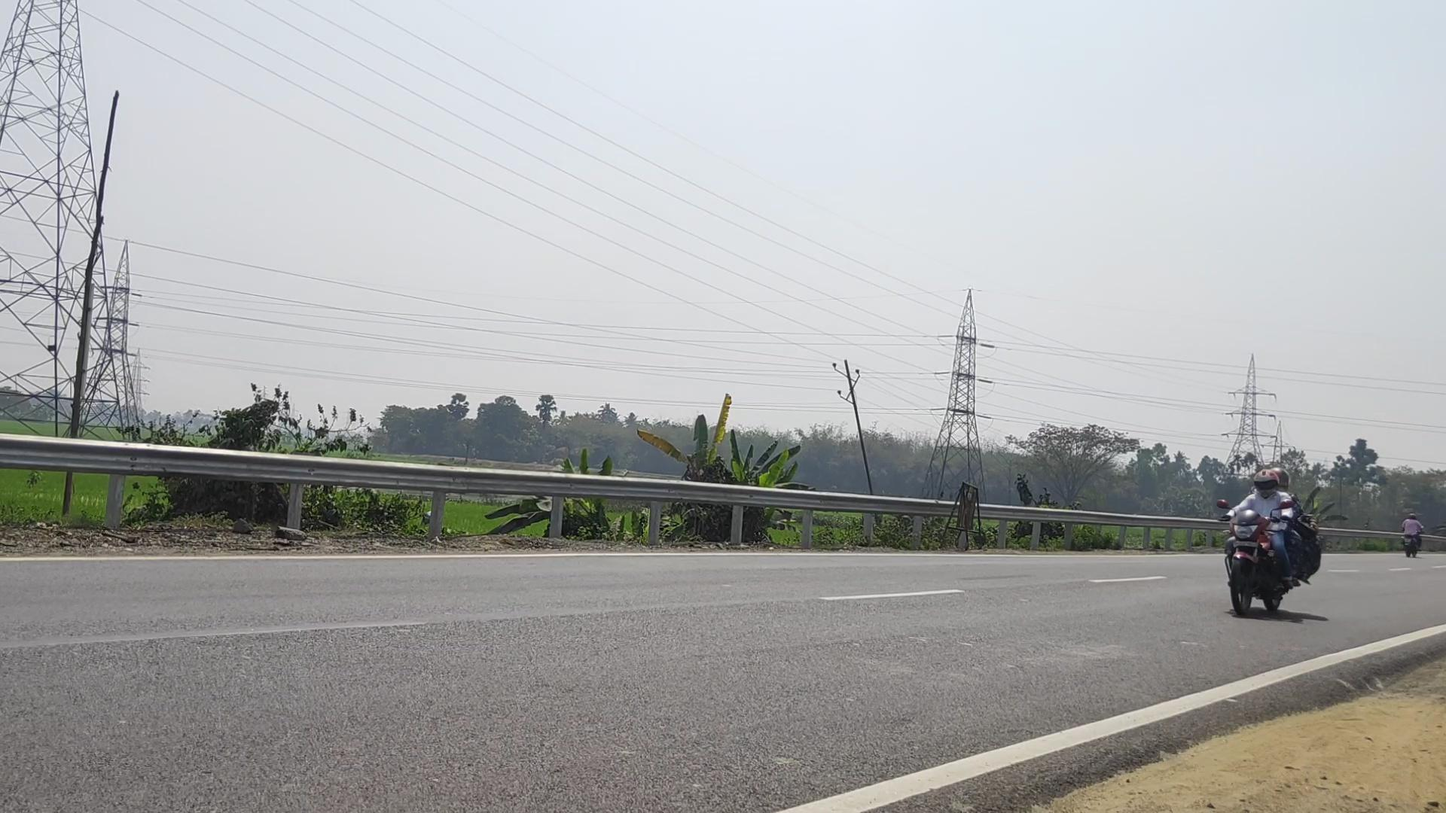bike: (1216, 467, 1322, 616), (1401, 513, 1426, 558)
